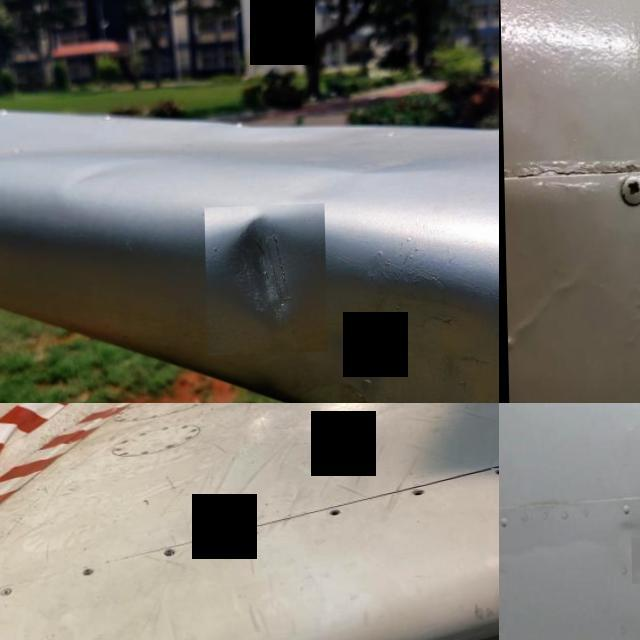Crack: (614, 161, 640, 227)
Dent: (203, 206, 326, 358), (499, 532, 599, 564)
Missing_Fastener: (408, 487, 428, 502), (326, 510, 346, 524), (491, 472, 499, 481)
